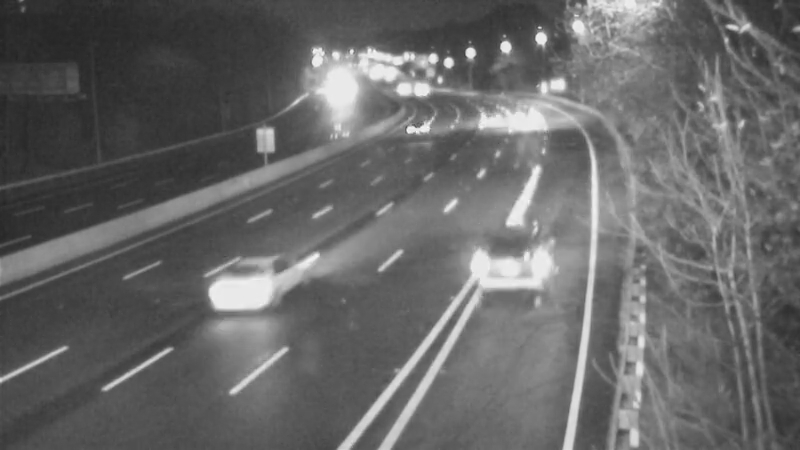vehicle: (475, 227, 555, 307), (192, 256, 272, 336), (463, 87, 513, 137), (497, 89, 547, 139), (386, 108, 436, 158)
